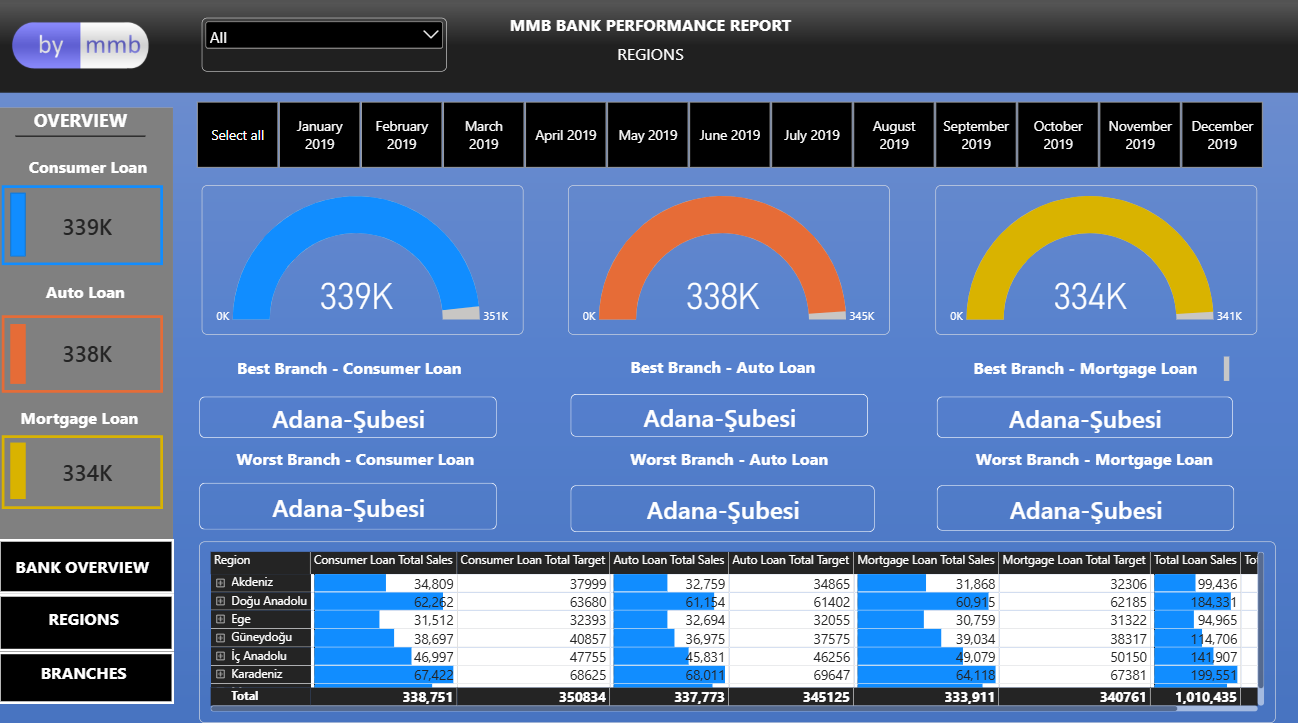

This screenshot's page, from the dashboard's own definition file:
{"tool":"powerbi","page":{"name":"REGIONS","canvas":[1920,1080],"ordinal":1},"visuals":[{"type":"textbox","box":[752.8,64.4,416,42.3],"z":1000},{"type":"shape","box":[0,160.1,257.7,877.9],"z":2000},{"type":"shape","box":[25.8,172.3,191.4,58],"z":4000},{"type":"shape","box":[5.5,274.2,237.4,117.8],"z":5000},{"type":"shape","box":[18.4,285.3,22.1,93.9],"z":7000},{"type":"shape","box":[5.5,465.6,237.4,114.1],"z":8000},{"type":"shape","box":[18.4,478.5,22.1,88.3],"z":10000},{"type":"shape","box":[5.5,642.3,237.4,108.6],"z":11000},{"type":"shape","box":[18.4,653.4,22.1,82.8],"z":12000},{"type":"shape","box":[0,795.1,259.5,81],"z":14000},{"type":"shape","box":[0,876.1,259.5,84.7],"z":15000},{"type":"shape","box":[0,960.7,259.5,77.3],"z":16000},{"type":"textbox","box":[12.9,819,222.7,46],"z":17000},{"type":"textbox","box":[14.7,896.3,222.7,46],"z":18000},{"type":"textbox","box":[14.7,975.5,222.7,46],"z":19000},{"type":"slicer","fields":{"Values":["Krediler.Ay"]},"box":[272.4,149.1,1608.6,101.2],"z":19001},{"type":"slicer","fields":{"Values":["Sube_listesi.Bolgesi"]},"box":[300,27.6,360.7,79.1],"z":19002},{"type":"gauge","fields":{"MaxValue":["Olculer.Tuketici Kredisi Toplam Hedef"],"Y":["Olculer.Tuketici Kredisi Toplam Satisi"]},"box":[300.5,273.8,473.4,220.2],"z":19003},{"type":"gauge","fields":{"MaxValue":["Olculer.Konut Kredisi Toplam Hedef"],"Y":["Olculer.Konut Kredisi Toplam Satisi"]},"box":[1381.1,273.8,473.4,220.2],"z":19004},{"type":"gauge","fields":{"MaxValue":["Olculer.Otomobil Kredisi Toplam Hedef"],"Y":["Olculer.Otomobil Kredisi Toplam Satisi"]},"box":[839.8,273.8,473.4,220.2],"z":19005},{"type":"cardVisual","fields":{"Data":["Olculer.Tuketici Kredisi Toplam Satisi"]},"box":[46,285.3,171.2,97.5],"z":19006},{"type":"cardVisual","fields":{"Data":["Olculer.Otomobil Kredisi Toplam Satisi"]},"box":[46,473,171.2,97.5],"z":19007},{"type":"cardVisual","fields":{"Data":["Olculer.Konut Kredisi Toplam Satisi"]},"box":[46,647.9,171.2,97.5],"z":19008},{"type":"textbox","box":[309.8,526.9,416,42.3],"z":19009},{"type":"cardVisual","fields":{"Data":["Min(Sube_listesi.Sube Adı)"]},"box":[295.6,584.6,438.4,61.7],"z":19010},{"type":"textbox","box":[319.2,661.1,416,42.3],"z":19011},{"type":"cardVisual","fields":{"Data":["Min(Sube_listesi.Sube Adı)"]},"box":[295.6,712.2,438.4,70],"z":19012},{"type":"textbox","box":[858.7,525.1,416,42.3],"z":19013},{"type":"cardVisual","fields":{"Data":["Min(Sube_listesi.Sube Adı)"]},"box":[843.1,582.5,438.4,63.8],"z":19014},{"type":"textbox","box":[868.7,660.7,416,42.3],"z":19015},{"type":"cardVisual","fields":{"Data":["Min(Sube_listesi.Sube Adı)"]},"box":[843.1,716.3,448.7,70],"z":19016},{"type":"textbox","box":[1396.1,526.6,416,42.3],"z":19017},{"type":"cardVisual","fields":{"Data":["Min(Sube_listesi.Sube Adı)"]},"box":[1382.4,584.6,436.4,61.7],"z":19018},{"type":"textbox","box":[1405.5,660.8,416,42.3],"z":19019},{"type":"cardVisual","fields":{"Data":["Min(Sube_listesi.Sube Adı)"]},"box":[1382.4,716.3,438.4,67.9],"z":19020},{"type":"pivotTable","fields":{"Rows":["Sube_listesi.Bolgesi","Sube_listesi.Sube Adı"],"Values":["Olculer.Tuketici Kredisi Toplam Satisi","Olculer.Tuketici Kredisi Toplam Hedef","Olculer.Otomobil Kredisi Toplam Satisi","Olculer.Otomobil Kredisi Toplam Hedef","Olculer.Konut Kredisi Toplam Satisi","Olculer.Konut Kredisi Toplam Hedef","Olculer.Toplam Kredi Satisi","Olculer.Toplam Kredi Hedefi"]},"box":[296.4,798.6,1584.9,267.6],"z":19021},{"type":"textbox","box":[752.8,22.1,416,42.3],"z":19022},{"type":"textbox","box":[25.8,159.4,191.4,42.3],"z":19023},{"type":"textbox","box":[36.8,230.1,191.4,38.7],"z":19024},{"type":"textbox","box":[33.1,414.1,191.4,38.7],"z":19025},{"type":"textbox","box":[33.1,600,191.4,38.7],"z":19026}]}

Visuals, with their boxes in screenshot pixels (x1, y1, x2, y2), scaled from the page's 1920x1080 canvas onto the 1298x723 screenshot:
textbox: box=[509, 43, 790, 71]
shape: box=[0, 107, 174, 695]
shape: box=[17, 115, 147, 154]
shape: box=[4, 184, 164, 262]
shape: box=[12, 191, 27, 254]
shape: box=[4, 312, 164, 388]
shape: box=[12, 320, 27, 379]
shape: box=[4, 430, 164, 503]
shape: box=[12, 437, 27, 493]
shape: box=[0, 532, 175, 587]
shape: box=[0, 587, 175, 643]
shape: box=[0, 643, 175, 695]
textbox: box=[9, 548, 159, 579]
textbox: box=[10, 600, 160, 631]
textbox: box=[10, 653, 160, 684]
slicer - Krediler.Ay: box=[184, 100, 1272, 168]
slicer - Sube_listesi.Bolgesi: box=[203, 18, 447, 71]
gauge - Olculer.Tuketici Kredisi Toplam Hedef x Olculer.Tuketici Kredisi Toplam Satisi: box=[203, 183, 523, 331]
gauge - Olculer.Konut Kredisi Toplam Hedef x Olculer.Konut Kredisi Toplam Satisi: box=[934, 183, 1254, 331]
gauge - Olculer.Otomobil Kredisi Toplam Hedef x Olculer.Otomobil Kredisi Toplam Satisi: box=[568, 183, 888, 331]
cardVisual - Olculer.Tuketici Kredisi Toplam Satisi: box=[31, 191, 147, 256]
cardVisual - Olculer.Otomobil Kredisi Toplam Satisi: box=[31, 317, 147, 382]
cardVisual - Olculer.Konut Kredisi Toplam Satisi: box=[31, 434, 147, 499]
textbox: box=[209, 353, 491, 381]
cardVisual - Min(Sube_listesi.Sube Adı): box=[200, 391, 496, 433]
textbox: box=[216, 443, 497, 471]
cardVisual - Min(Sube_listesi.Sube Adı): box=[200, 477, 496, 524]
textbox: box=[581, 352, 862, 380]
cardVisual - Min(Sube_listesi.Sube Adı): box=[570, 390, 866, 433]
textbox: box=[587, 442, 869, 471]
cardVisual - Min(Sube_listesi.Sube Adı): box=[570, 480, 873, 526]
textbox: box=[944, 353, 1225, 381]
cardVisual - Min(Sube_listesi.Sube Adı): box=[935, 391, 1230, 433]
textbox: box=[950, 442, 1231, 471]
cardVisual - Min(Sube_listesi.Sube Adı): box=[935, 480, 1231, 525]
pivotTable - Sube_listesi.Bolgesi x Sube_listesi.Sube Adı: box=[200, 535, 1272, 714]
textbox: box=[509, 15, 790, 43]
textbox: box=[17, 107, 147, 135]
textbox: box=[25, 154, 154, 180]
textbox: box=[22, 277, 152, 303]
textbox: box=[22, 402, 152, 428]
